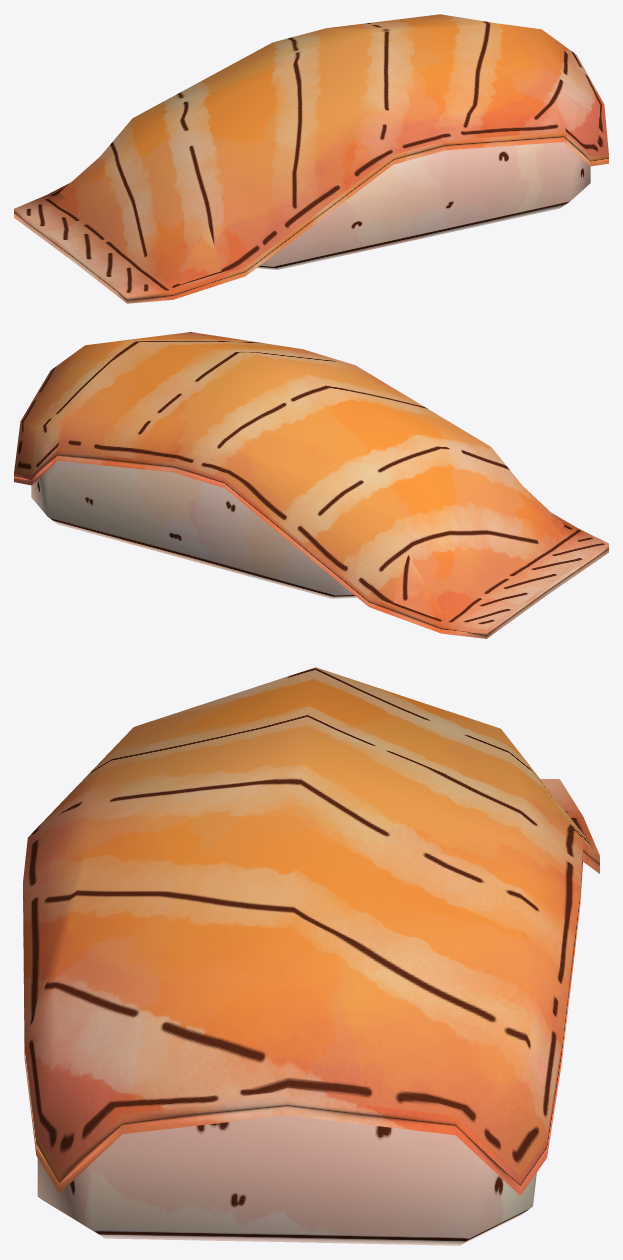
Rendered from nigiri salmon.fbx.
3 views of the same model, one above another, from view 1: azimuth 30°, elevation 25°; view 2: azimuth 150°, elevation 25°; view 3: azimuth 270°, elevation 25° (orthographic). The views are drawn at different scales.
Visible parts, largest first — view 1: nigiri_salmon; view 2: nigiri_salmon; view 3: nigiri_salmon.
Boxes of the visible parts, x1,y1,x2,y2 form: nigiri_salmon: (14, 14, 608, 303); nigiri_salmon: (14, 332, 608, 638); nigiri_salmon: (23, 667, 599, 1245).
Bounding box in the file's own units: 12.9 × 3.94 × 6.47.
